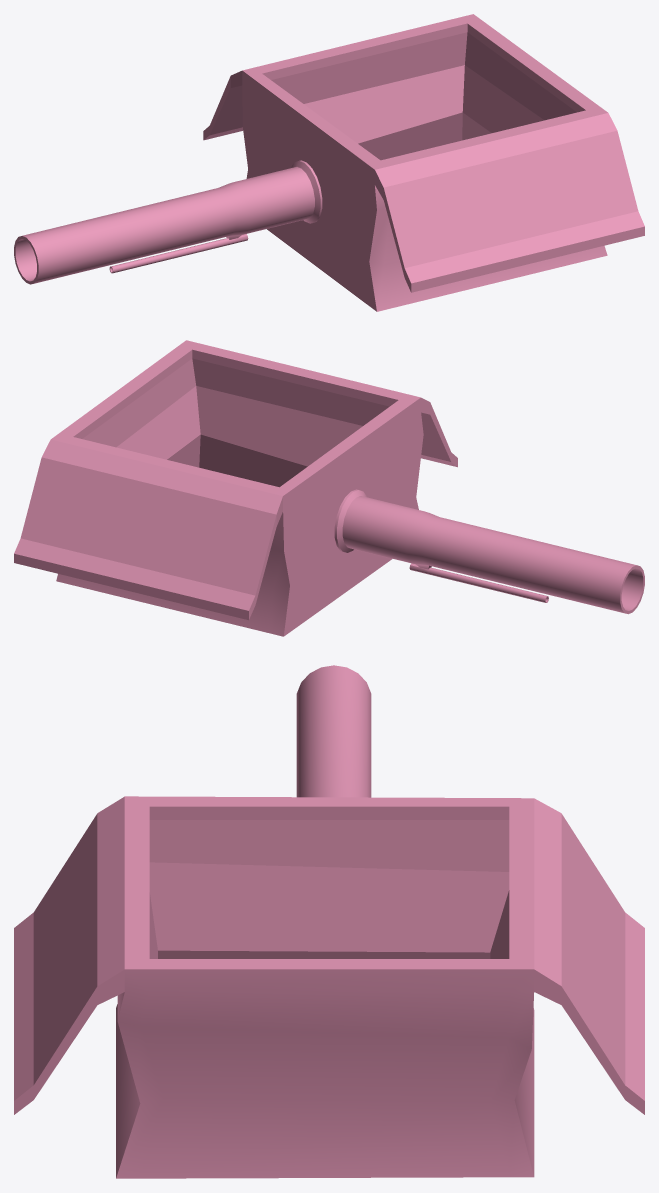
The model's file is TankHead_GlassCannon_Group.FBX.
3 renders of one model, top to bottom at view 1: azimuth 30°, elevation 25°; view 2: azimuth 150°, elevation 25°; view 3: azimuth 270°, elevation 25°, orthographic. The views are drawn at different scales.
Parts seen in each view (by area): view 1: TankHead_GlassCannon, TankTurret_GlassCannon; view 2: TankHead_GlassCannon, TankTurret_GlassCannon; view 3: TankHead_GlassCannon, TankTurret_GlassCannon.
Part boxes in pixels (x1,y1,x2,y2): TankHead_GlassCannon: (203, 14, 644, 311); TankTurret_GlassCannon: (14, 160, 322, 284); TankHead_GlassCannon: (14, 340, 457, 636); TankTurret_GlassCannon: (334, 489, 644, 614); TankHead_GlassCannon: (14, 796, 644, 1178); TankTurret_GlassCannon: (296, 665, 371, 797).
Size of the model in its own units: 138 by 35.84 by 96.66.
